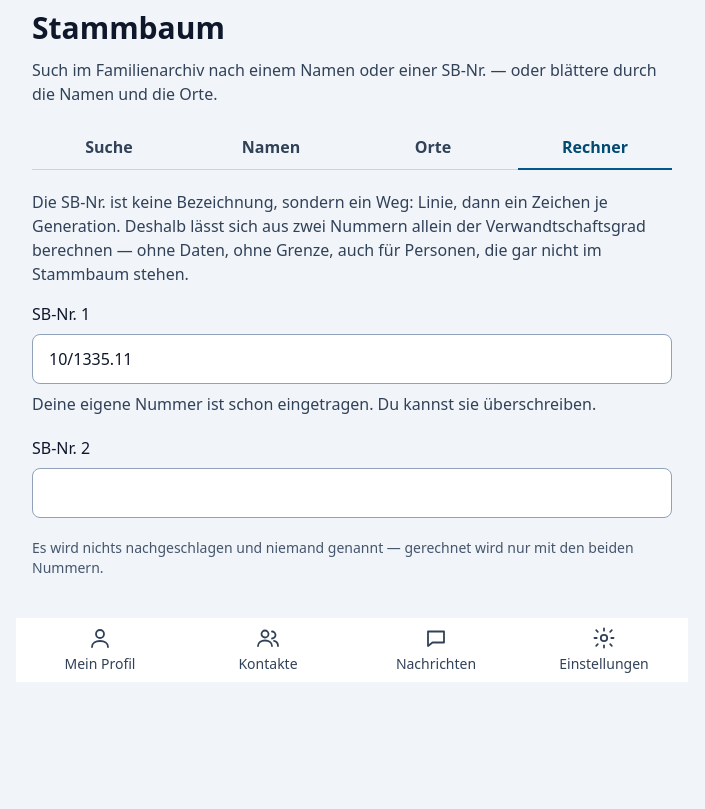
Test: the archive-number calculator › names the relationship once both are given
Type "24/b6" into the field labelled "SB-Nr. 2".
click(352, 493); type("24/b6")  # box [32,468,672,518]
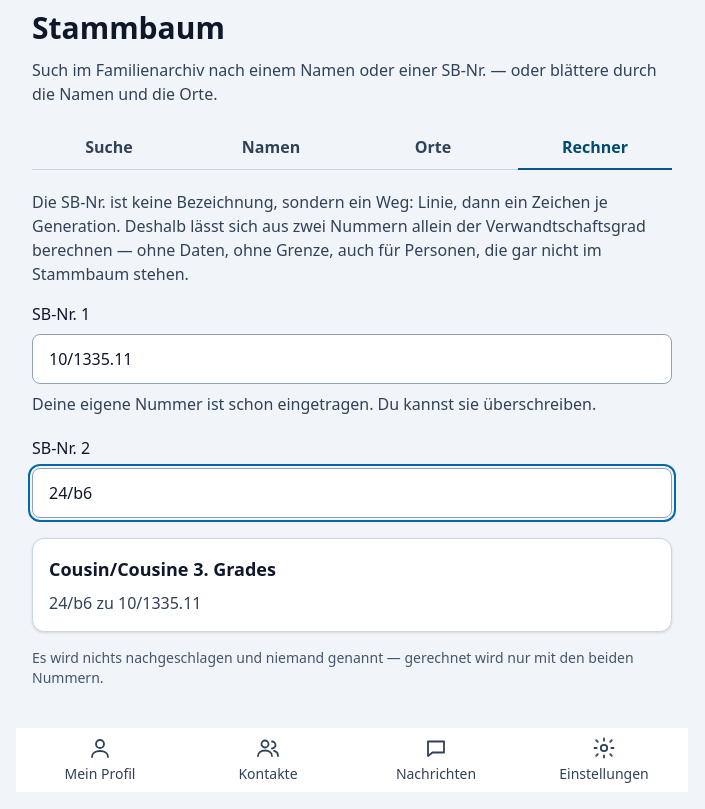
expect the text "Cousin/Cousine 3. Grades" is shown: met, box [49,557,276,581]
